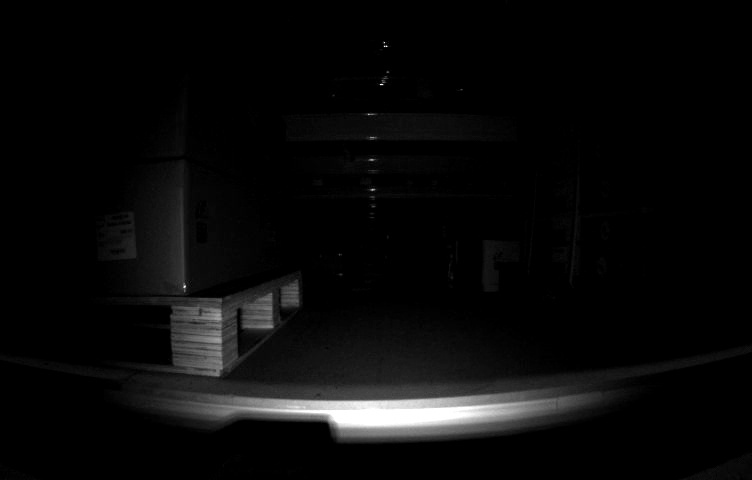True Barcode: (87, 214, 139, 257)
